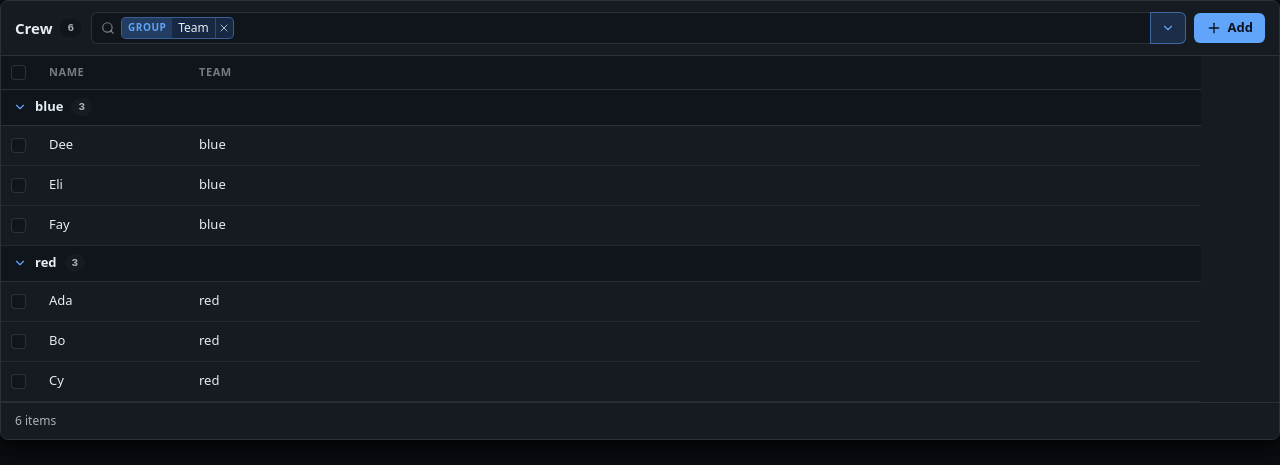
Test case: collapsing a group from its header control › toggles on a click on the header button, exactly once
Expected: the column heading "blue 3" is shown, [1,90,1201,126]
Expected: the text "Ada" is shown 3 times, [49,291,73,309]; [49,331,65,349]; [49,371,64,389]
Click the button with aria-label "red, 3 rows" at (49, 263), box [13,253,85,273]
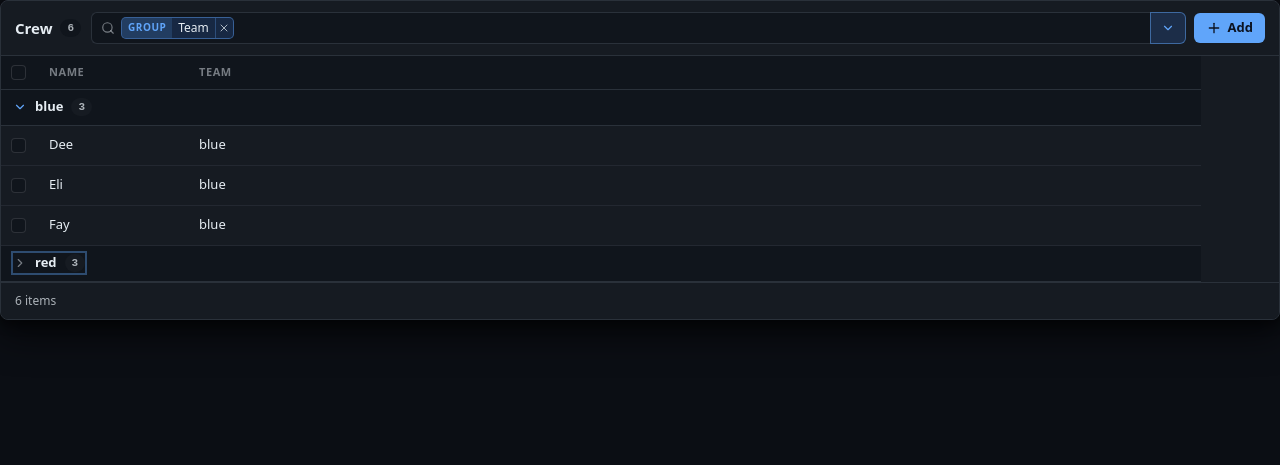
Expected: the text "Ada" is not shown
Expected: the button with aria-label "red, 3 rows" is collapsed
# Back open: a second toggle proves the row handler is not also firing.
Click the button with aria-label "red, 3 rows" at (49, 263), box [13,253,85,273]
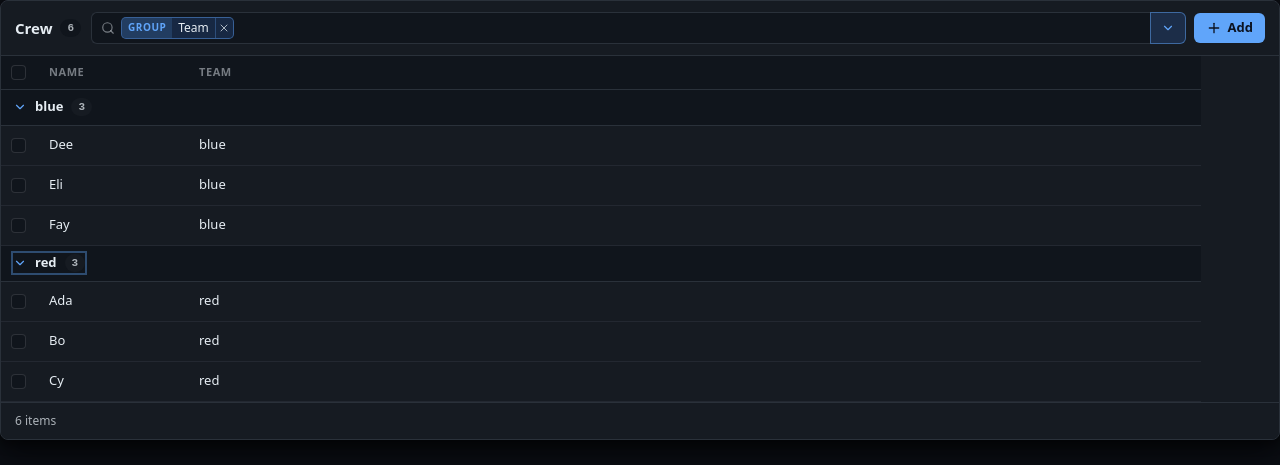
Expected: the text "Ada" is shown 3 times, [49,291,73,309]; [49,331,65,349]; [49,371,64,389]
Expected: the button with aria-label "red, 3 rows" is expanded, [13,253,85,273]
